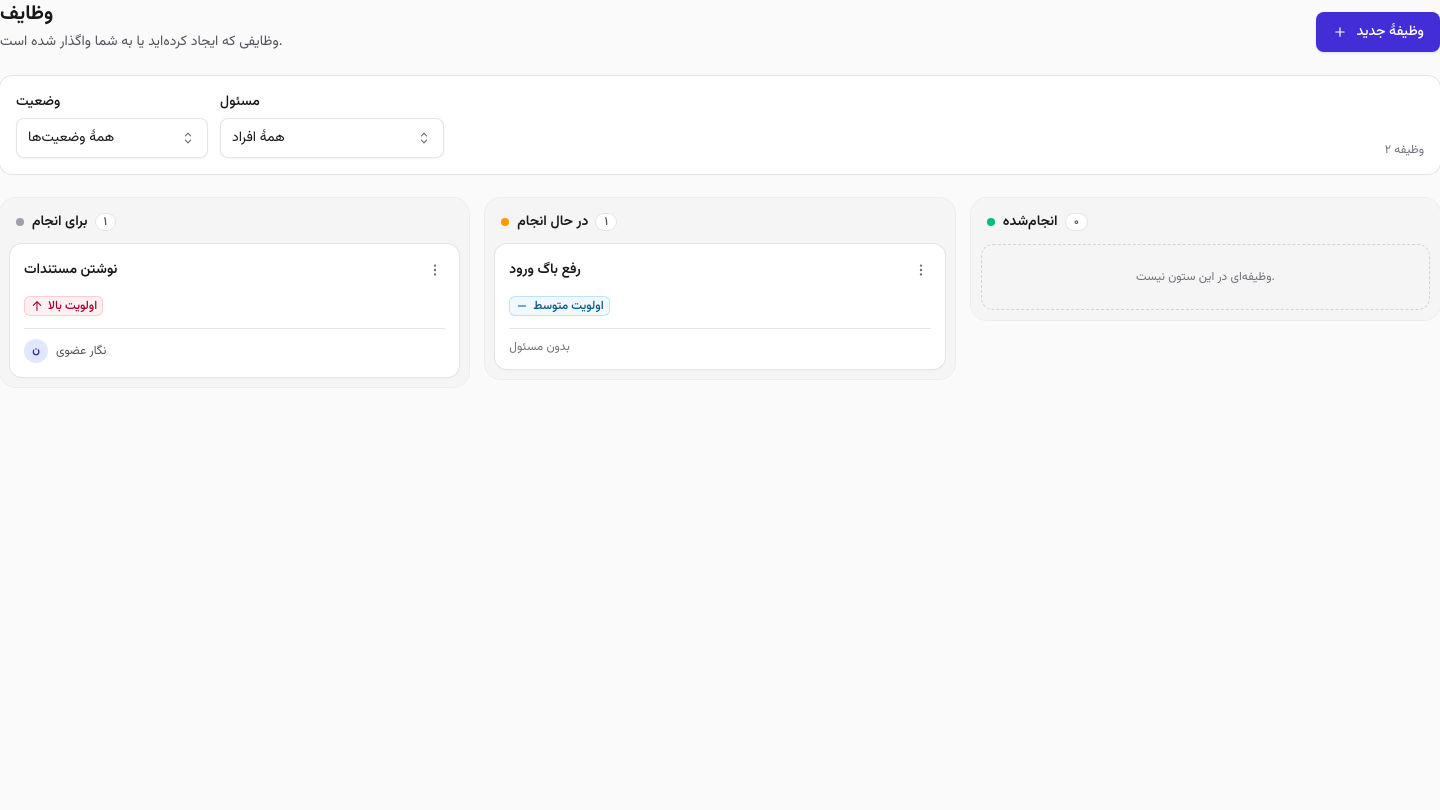
TaskBoard › hides delete for members on tasks they did not create, and limits assignees to themselves
Expected: the button "نوشتن مستندات" is shown, [24,258,117,282]
Click the button named "گزینه‌های وظیفهٔ «نوشتن مستندات»" at (435, 270), box [419,254,451,286]
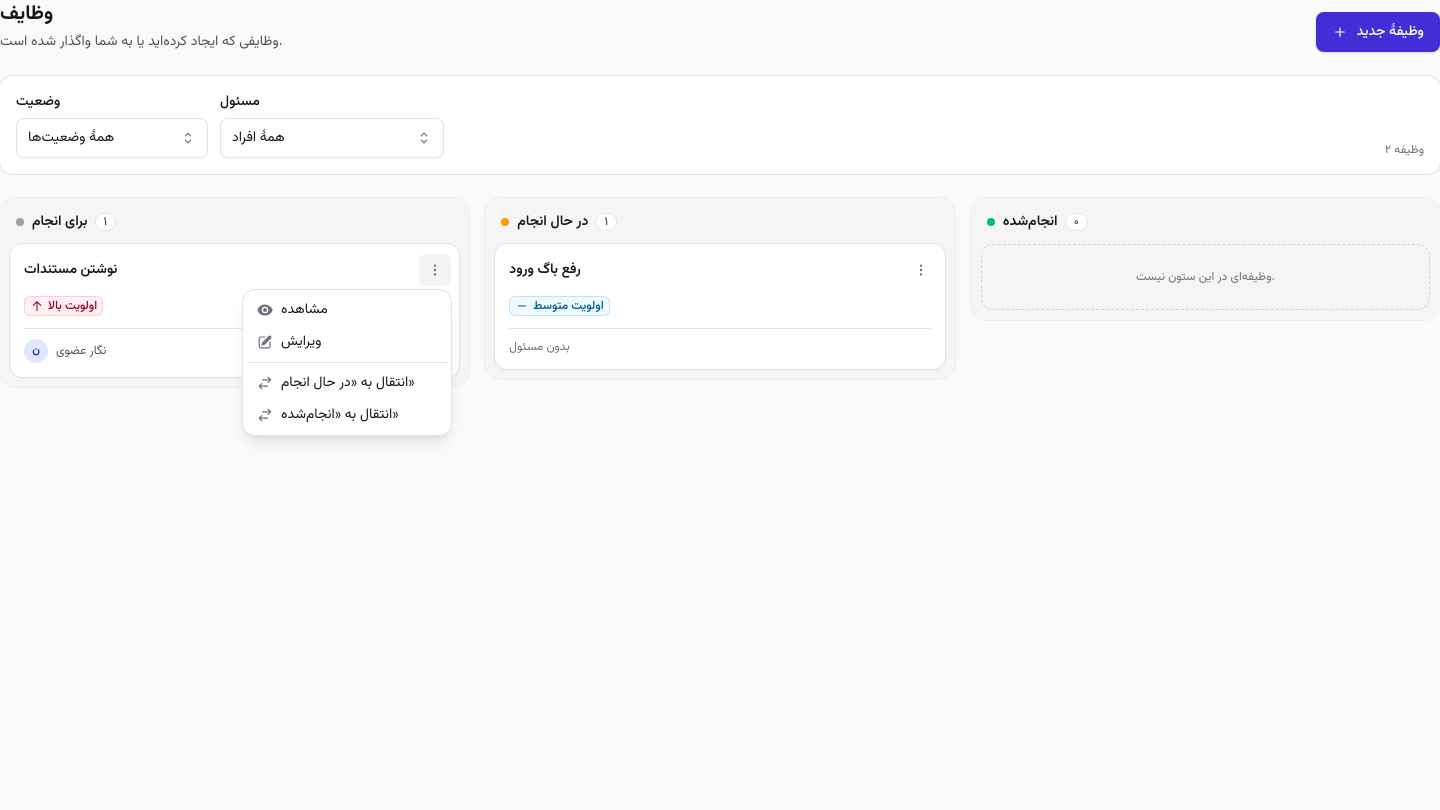
Expected: the menu item "حذف" is not shown
Expected: the menu item "ویرایش" is shown, [247,326,447,358]
Press Escape
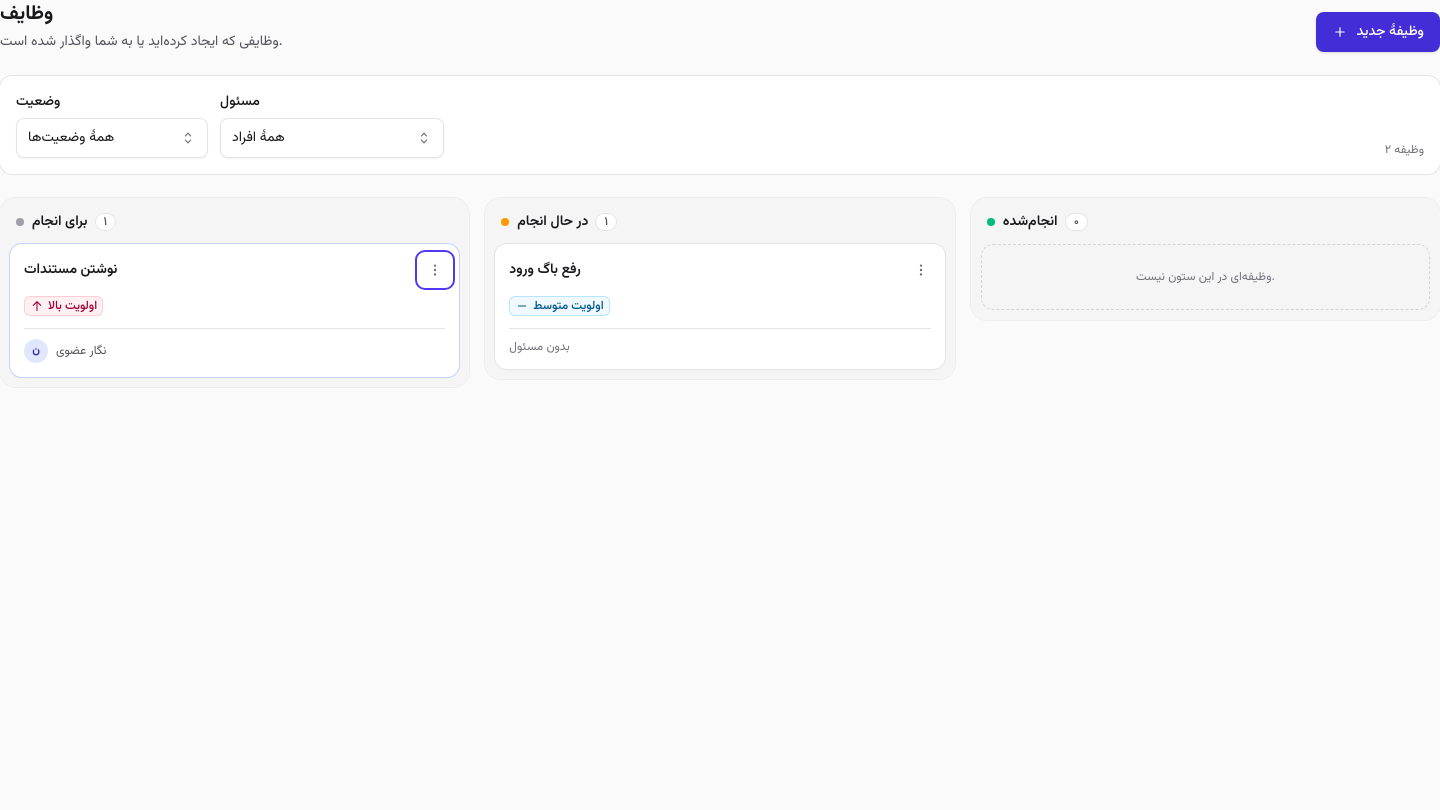
Click the button named "گزینه‌های وظیفهٔ «رفع باگ ورود»" at (921, 270), box [905,254,937,286]
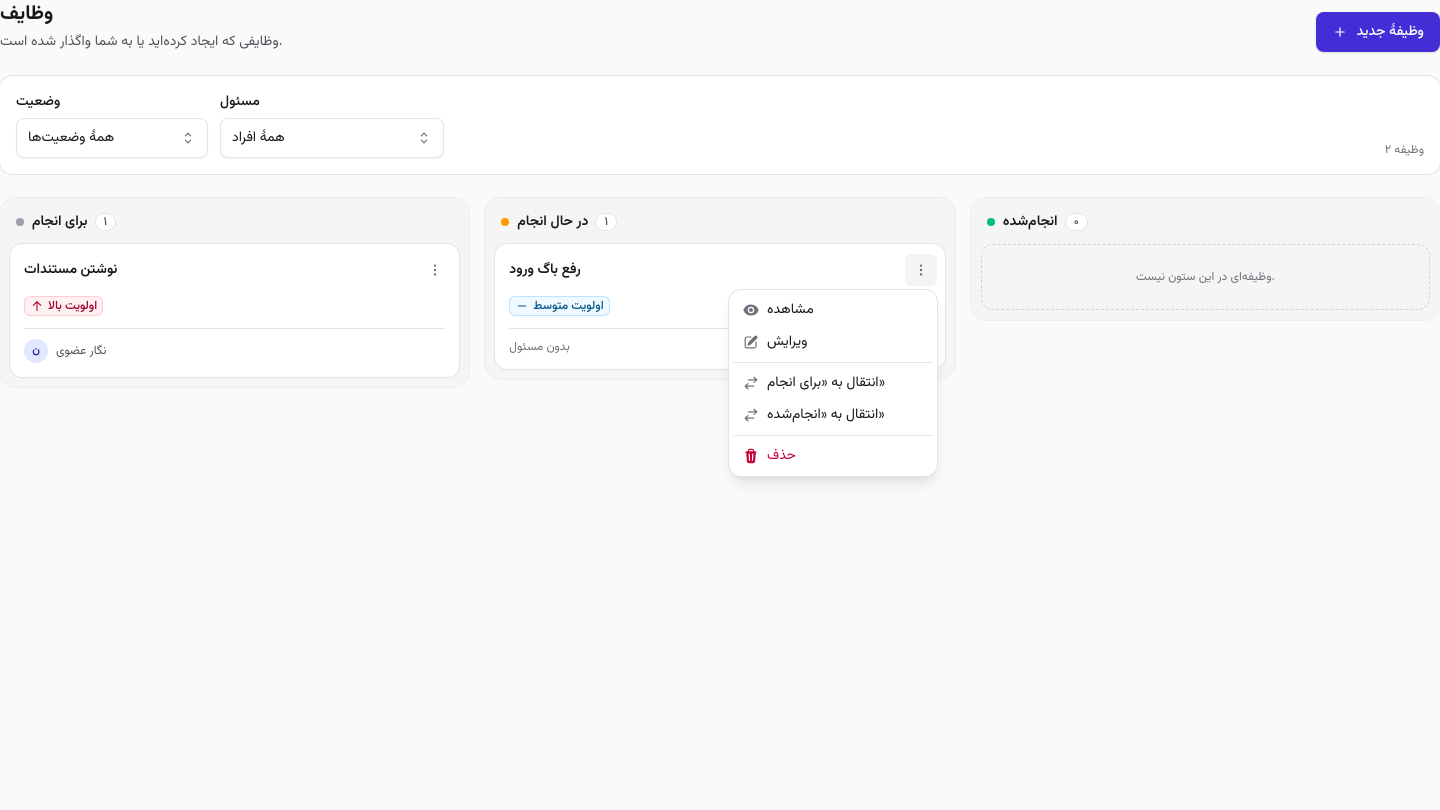
Expected: the menu item "حذف" is shown, [733,440,933,472]
Press Escape
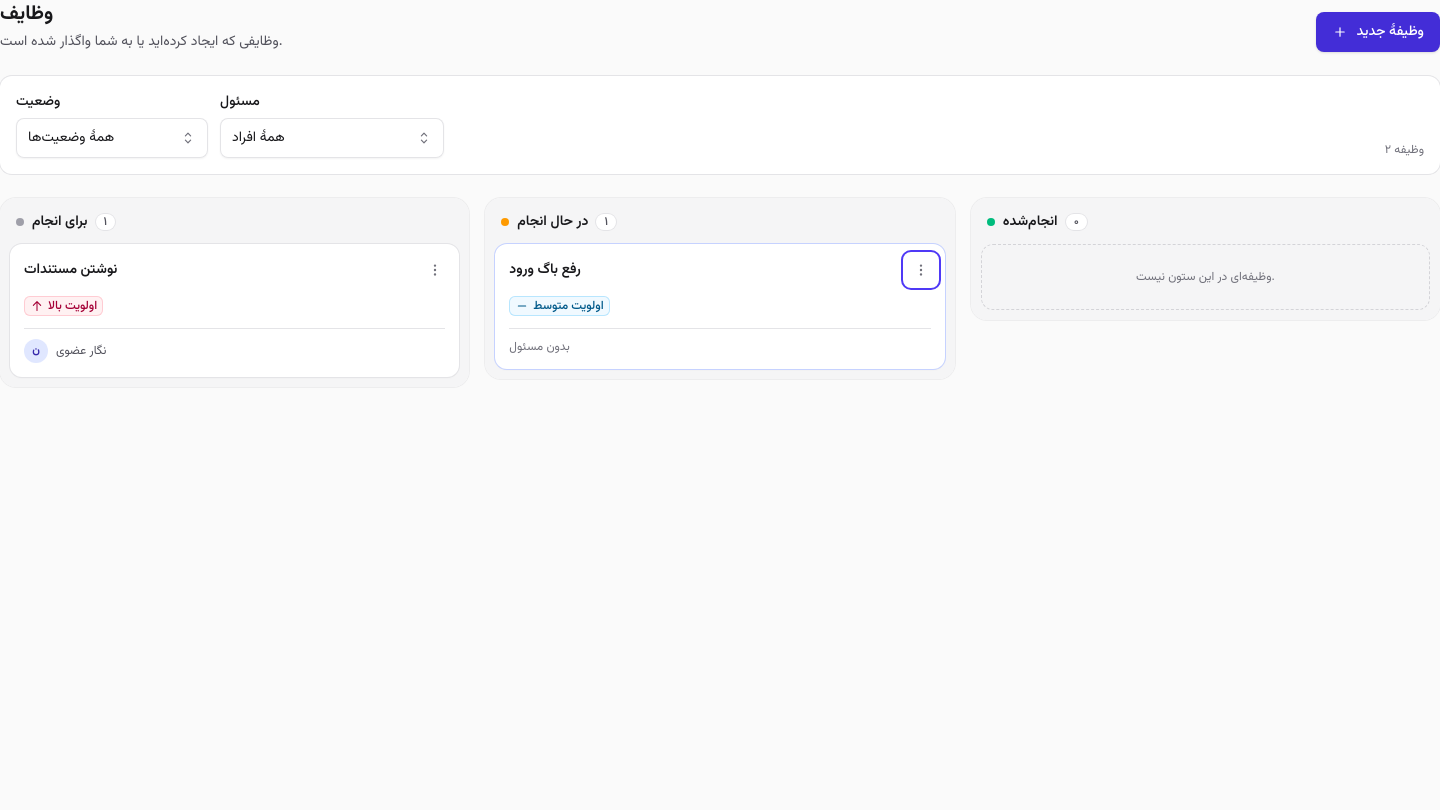
Click the button "وظیفهٔ جدید" at (1378, 32), box [1316,12,1439,52]
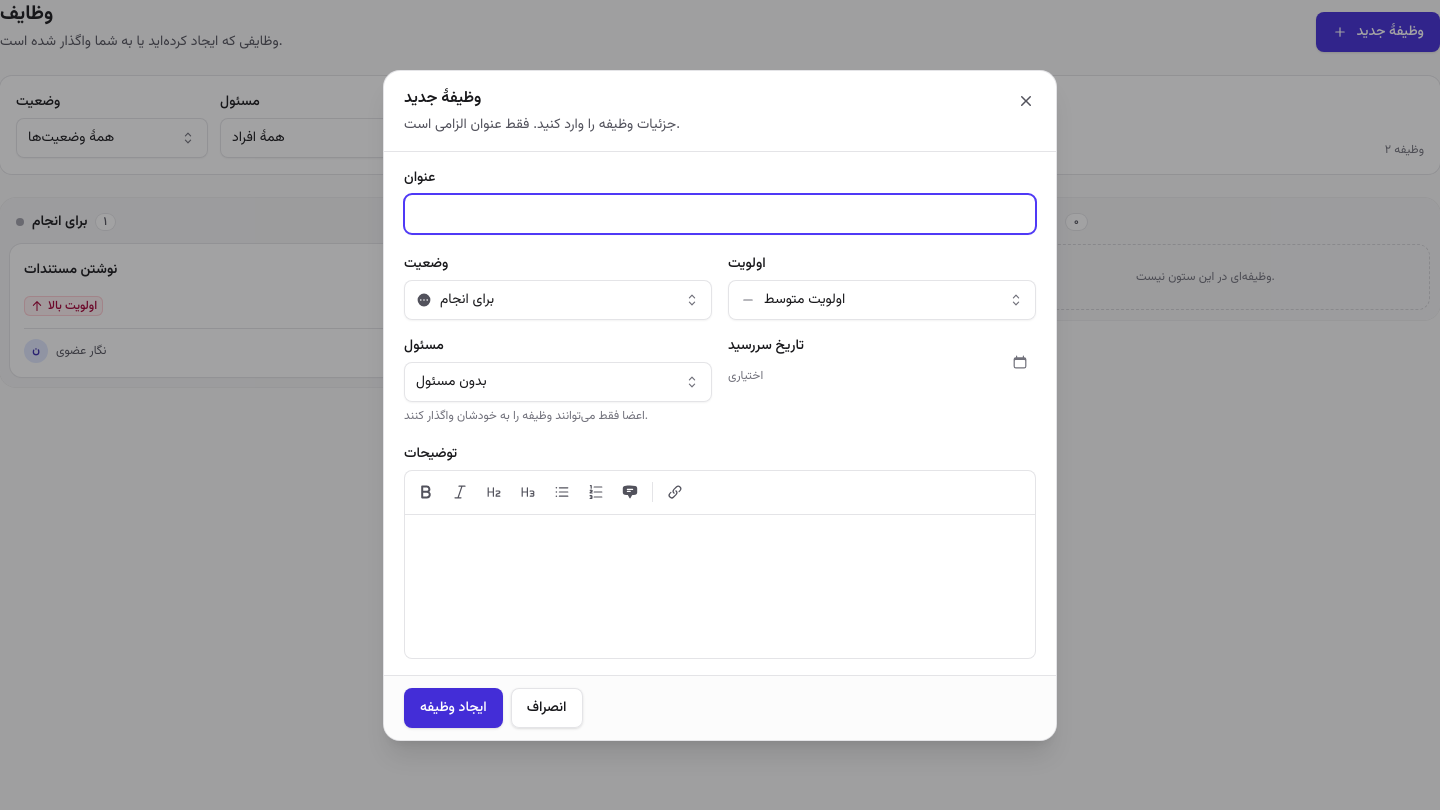
Click the button "بدون مسئول" at (451, 382), box [404,362,712,402]
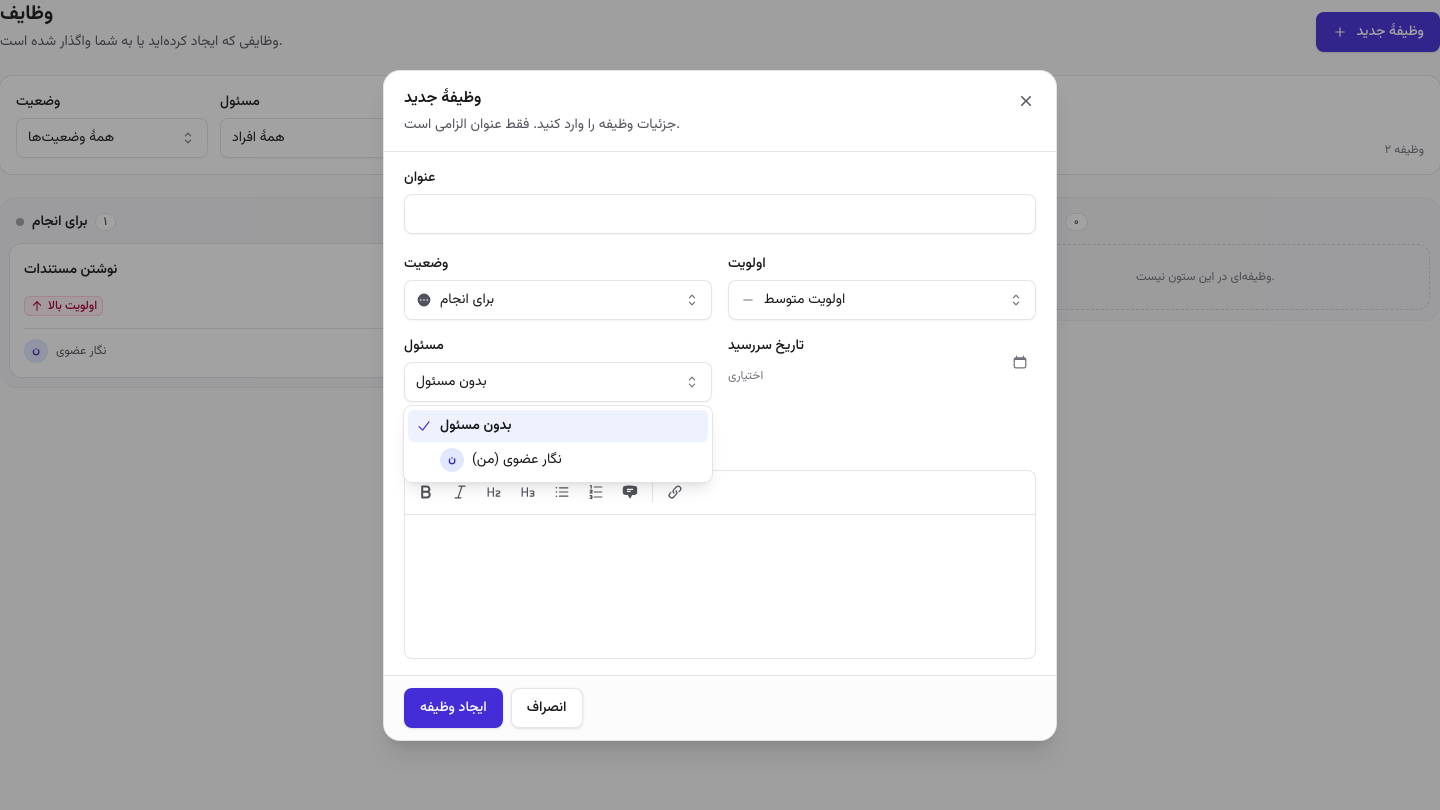
Expected: the number of options is 2, [408,410,708,442]; [440,448,562,472]
Expected: the option "بدون مسئول" is shown, [408,410,708,442]
